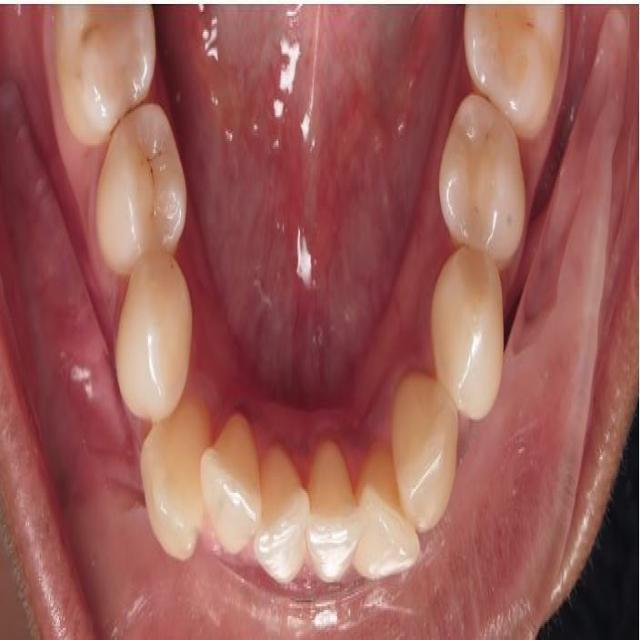1st Molar: (56, 3, 157, 149), (464, 5, 564, 136)
1st Premolar: (116, 256, 193, 419), (432, 248, 504, 419)
2nd Premolar: (95, 105, 188, 280), (439, 95, 526, 264)
Canine: (138, 396, 212, 562), (390, 374, 458, 537)
Central Incisor: (306, 441, 361, 584), (256, 449, 309, 582)
Lateral Incisor: (353, 449, 422, 580), (201, 411, 258, 557)
